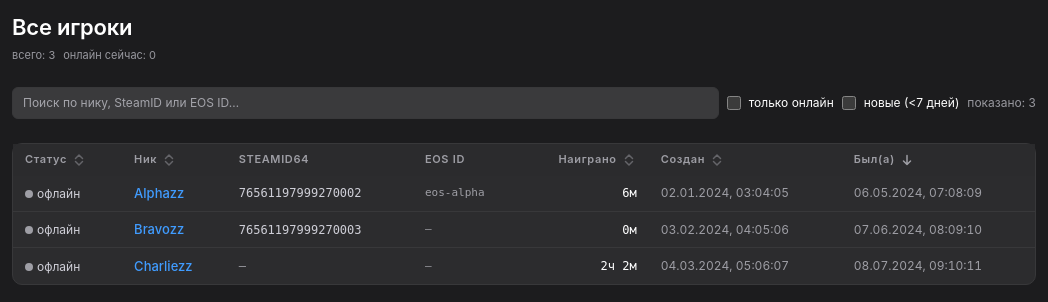
Test: PlayersPage › shows the no-matches message when the search box excludes every row
Expected: the link "Alphazz" is shown, 134,184 -> 184,203
Step 1. Type "zzzznomatch" into the search field with placeholder "Поиск по нику, SteamID или EOS ID…" → (365, 103), box 12,87 -> 719,119
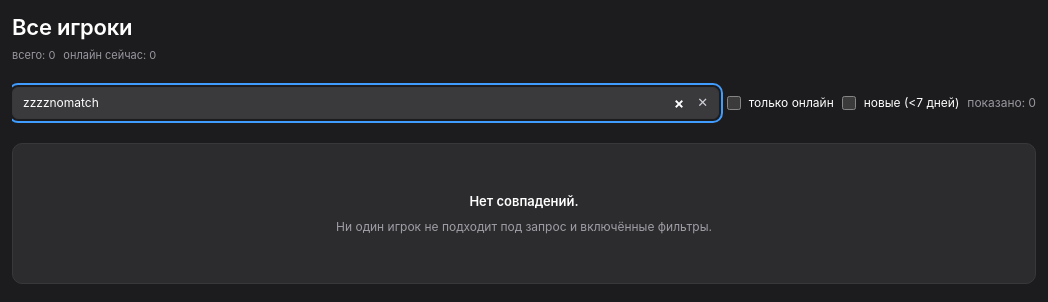
Expected: the text "Нет совпадений." is shown, 469,192 -> 579,210
